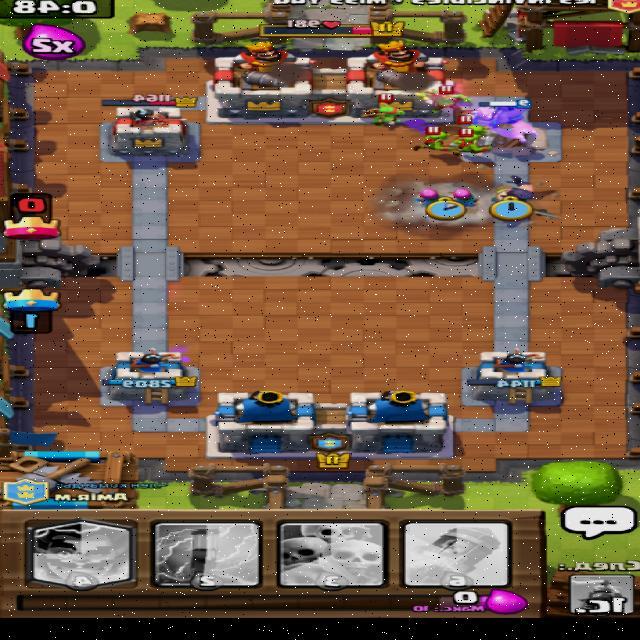Enemy-Goblin: (452, 128, 496, 156), (413, 126, 460, 152), (462, 115, 491, 134)
Enemy-SpearGoblin: (420, 84, 474, 113), (362, 93, 407, 127)
Player-Archer: (413, 188, 449, 207), (449, 188, 483, 206)
Player-Executioner: (489, 174, 564, 222)
Player-HogRider: (472, 98, 542, 144)
